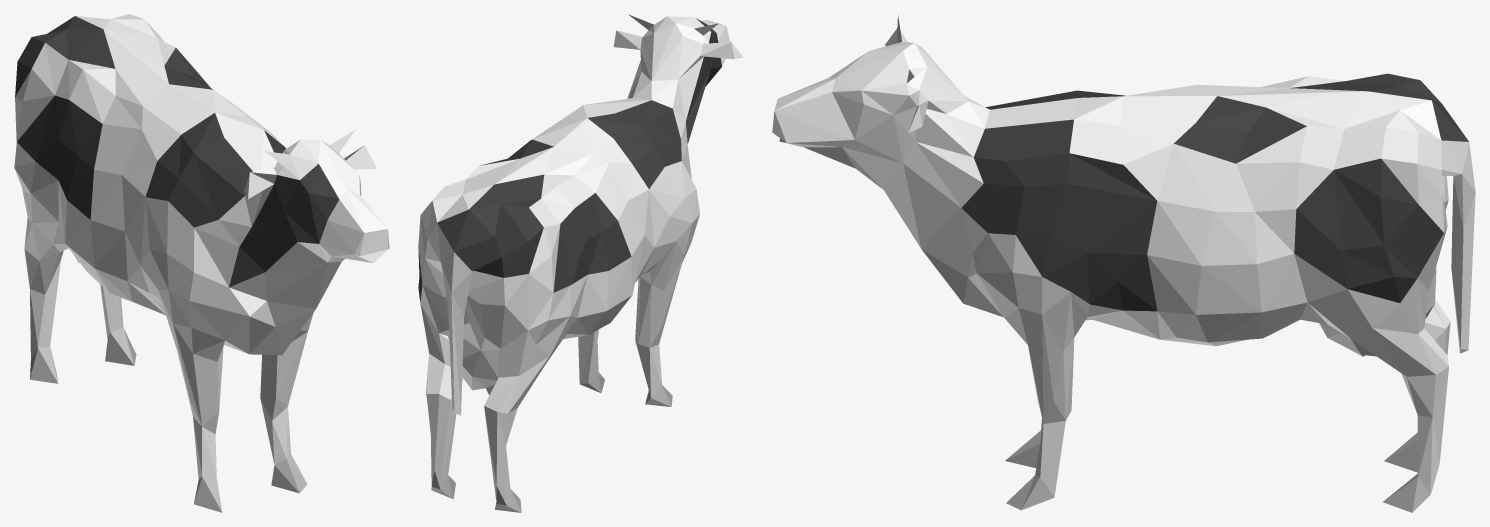
Rendered from animal_014.glb.
The picture shows the model from 3 angles, left to right: view 1: azimuth 30°, elevation 25°; view 2: azimuth 150°, elevation 25°; view 3: azimuth 270°, elevation 25°; orthographic projection. The views are drawn at different scales.
Visible parts, largest first — view 1: animal_014; view 2: animal_014; view 3: animal_014.
Boxes of the visible parts, bbox=[...] form: animal_014: bbox=[14, 14, 389, 512]; animal_014: bbox=[418, 14, 743, 512]; animal_014: bbox=[772, 15, 1475, 512].
Bounding box in the file's own units: 1.49 × 3.36 × 4.81.
Materials: 1 (1 with a texture image).
